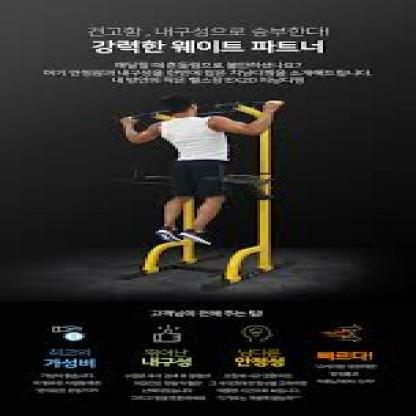chinning dipping: (115, 97, 296, 292)
